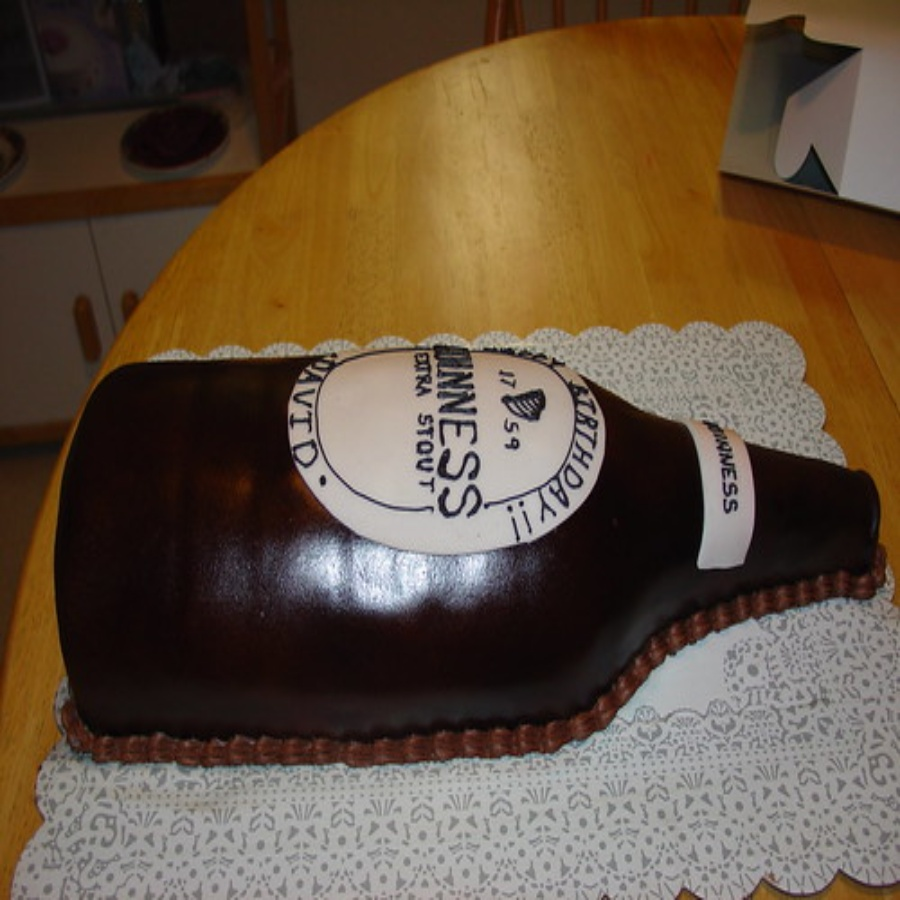beer: (80, 346, 863, 744)
